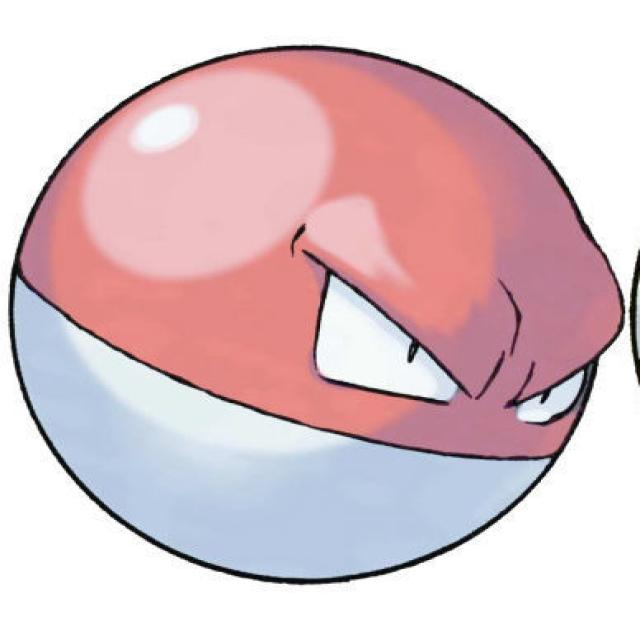Voltorb: (0, 44, 623, 632)
